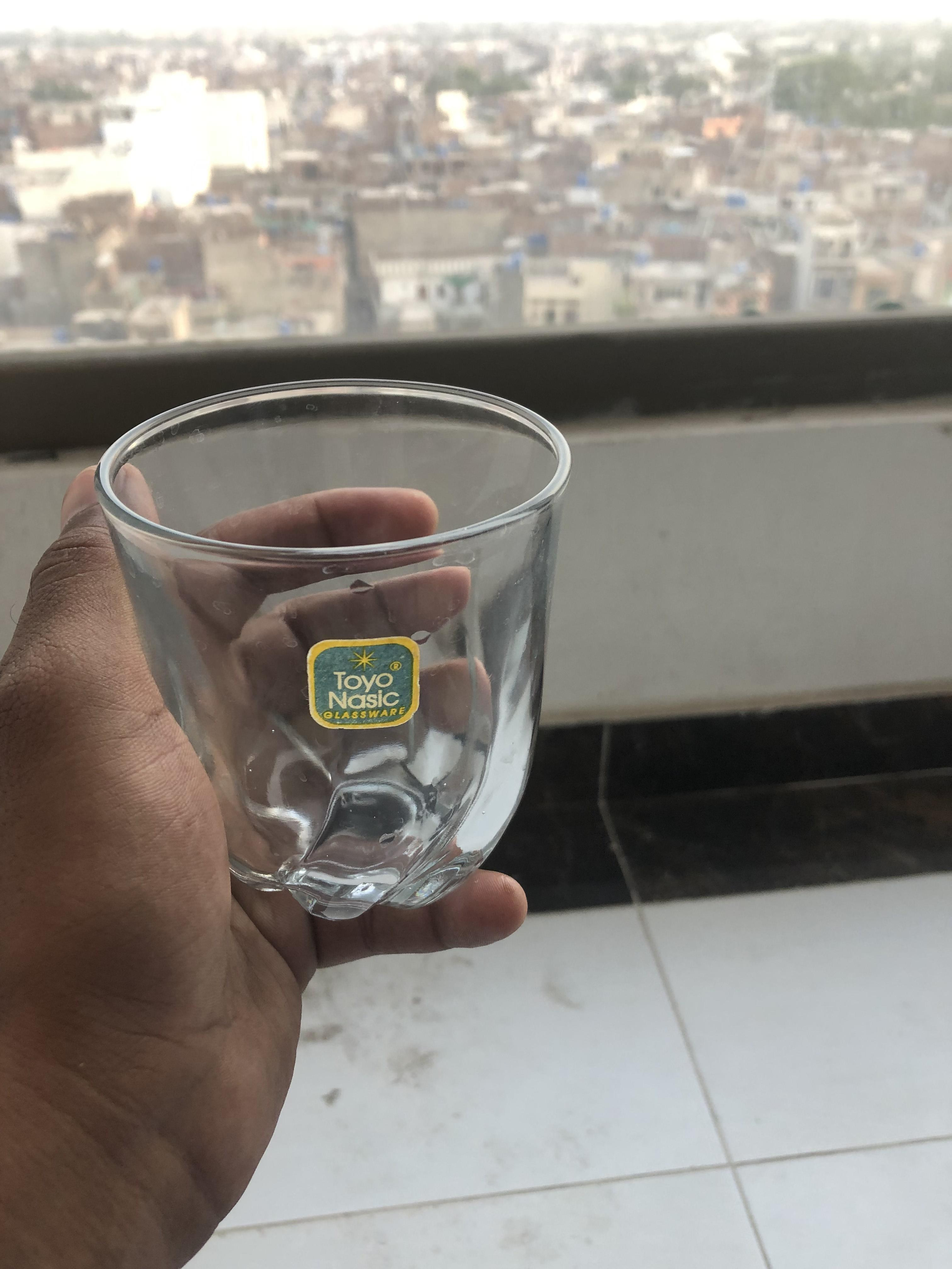glass-normal: (96, 377, 574, 925)
